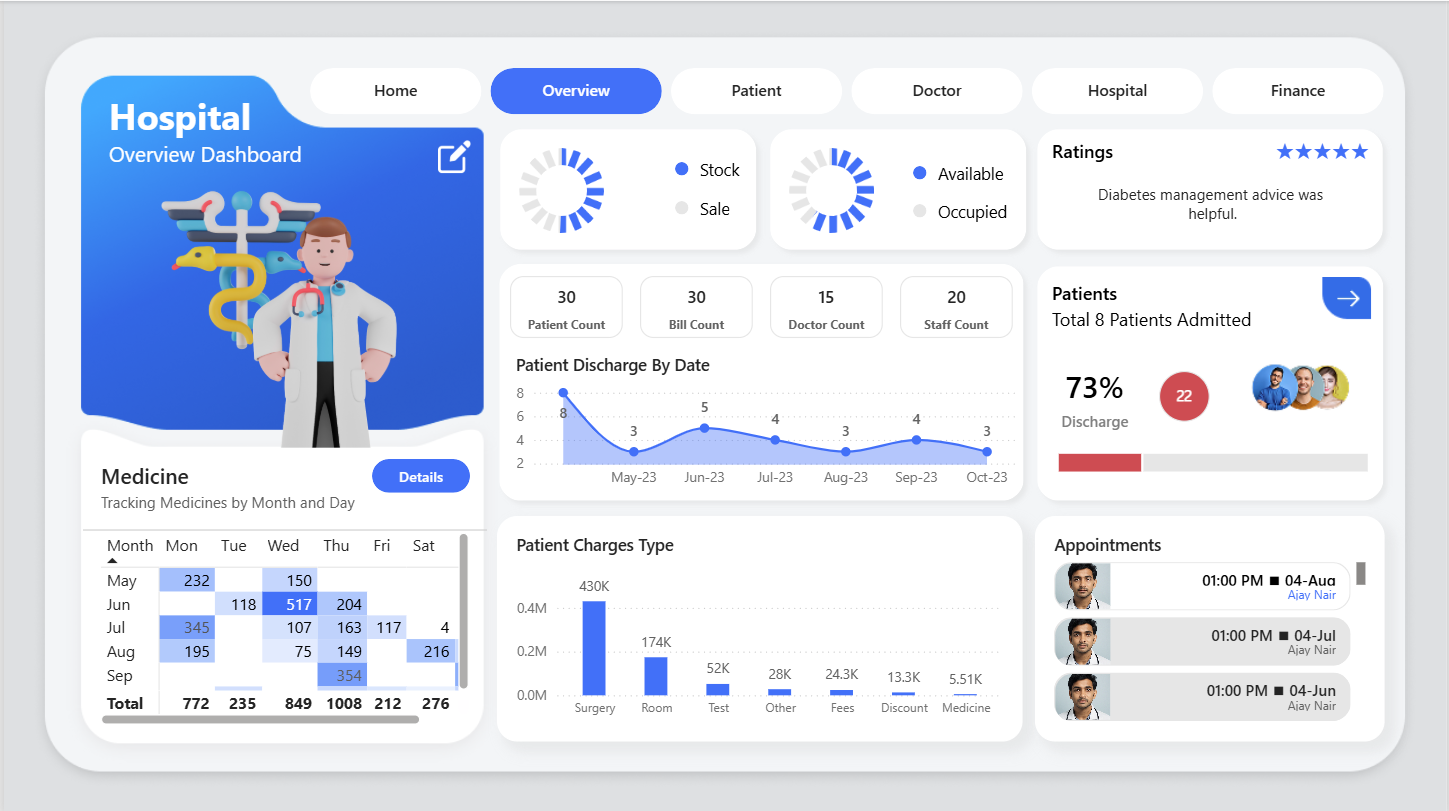

Layout of this report page (visuals, bound fields, positions):
{"tool":"powerbi","page":{"name":"Overview","canvas":[1280,720],"ordinal":1},"visuals":[{"type":"shape","box":[431,105,245,125],"z":0},{"type":"shape","box":[414,210,515,258],"z":0,"group":"g1"},{"type":"shape","box":[670,105,245,125],"z":1000},{"type":"shape","box":[907,226,325,226],"z":2000},{"type":"image","box":[124,148,246,250],"z":3000},{"type":"textbox","box":[92.7,79.6,207.6,75.6],"z":4000},{"type":"image","box":[384.8,120.6,29.3,34.6],"z":5000},{"type":"textbox","box":[601.7,0,101.8,99.8],"z":6000},{"type":"clusteredColumnChart","title":"Patient Charges Type","fields":{"Category":["Bills.Charge_Type"],"Y":["Sum(Bills.Value)"]},"box":[437,457,466,200],"z":7000},{"type":"pivotTable","title":"Medicine","fields":{"Values":["Sum(medicine_patient.qty)"],"Columns":["Calendar.Day"],"Rows":["Calendar.Month"]},"box":[70,395,358,262],"z":8000},{"type":"actionButton","box":[326,406,87,30],"z":9000},{"type":"pageNavigator","box":[271,59,953,41],"z":10000},{"type":"card","fields":{"Values":["Key Measures.patient_count"]},"box":[449,244,100,55],"z":10000,"group":"g1"},{"type":"card","fields":{"Values":["Count(patient_info.doctor_id)"]},"box":[679,244,100,55],"z":11000,"group":"g1"},{"type":"advancedSlicerVisual","title":"Appointments","fields":{"Values":["appointment.Appointment_Time_Date"]},"box":[914,457,310,200],"z":11000},{"type":"card","fields":{"Values":["Count(staff.staff_id)"]},"box":[794,244,100,55],"z":12000,"group":"g1"},{"type":"image","box":[1102,245,113,119],"z":12000},{"type":"group","id":"g1","title":"Group 1","box":[414,210,515,258],"z":13000},{"type":"card","fields":{"Values":["Count(Bills.bill_id)"]},"box":[564,244,100,55],"z":13000,"group":"g1"},{"type":"shape","box":[929,244,75,28],"z":14000},{"type":"areaChart","title":"Patient Discharge By Date","fields":{"Category":["patient_info.Format_DIsch_Date"],"Y":["Key Measures.patient_count"]},"box":[448,304,455,137],"z":14000,"group":"g1"},{"type":"shape","box":[929,267,199,28],"z":15000},{"type":"card","fields":{"Values":["Key Measures.Discharge_Patient"]},"box":[1024,328,45,45],"z":16000},{"type":"card","fields":{"Values":["Key Measures.Discharge%"]},"box":[921,313,92,75],"z":17000},{"type":"hundredPercentStackedBarChart","fields":{"Y":["Key Measures.patient_count"],"Series":["patient_info.patient_status"]},"box":[929,364,286,81],"z":18000},{"type":"donutChart","title":"Medicines Stock Status","fields":{"Y":["Key Measures.Total_Stock_Qty","Key Measures.Total_Med_Sale_Qty"]},"box":[431,117,127,102],"z":19000},{"type":"donutChart","title":"Medicines Stock Status","fields":{"Y":["Count(beds_info.beds)"],"Category":["beds_info.status"]},"box":[670,117,127,102],"z":20000},{"type":"shape","box":[617,135,53,28],"z":21000},{"type":"shape","box":[617,169,53,28],"z":22000},{"type":"shape","box":[595,143,12,12],"z":23000},{"type":"shape","box":[595,177,12,12],"z":24000},{"type":"shape","box":[828,138,66,28],"z":25000},{"type":"shape","box":[828,172,66,28],"z":26000},{"type":"shape","box":[806,146,12,12],"z":27000},{"type":"shape","box":[806,180,12,12],"z":28000},{"type":"image","box":[441.2,129.2,106.4,80],"z":29000},{"type":"image","box":[687.3,126.8,96.4,82.3],"z":30000},{"type":"shape","box":[907.1,104.8,324.5,125],"z":31000},{"type":"shape","box":[929.3,117.9,74.6,28.2],"z":32000},{"type":"card","fields":{"Values":["Key Measures.star rating"]},"box":[1112.7,118.9,111.9,31.2],"z":33000},{"type":"card","fields":{"Values":["Min(patient_info.satisfaction_feedback)"]},"box":[945.4,150.2,253,60.5],"z":34000}]}

Visuals, with their boxes in screenshot pixels (x1, y1, x2, y2), scaled from the page's 1280x720 canvas onto the 1449x811 screenshot:
shape: pyautogui.locateOnScreen(488, 118, 765, 259)
shape: pyautogui.locateOnScreen(469, 237, 1052, 527)
shape: pyautogui.locateOnScreen(758, 118, 1036, 259)
shape: pyautogui.locateOnScreen(1027, 255, 1395, 509)
image: pyautogui.locateOnScreen(140, 167, 419, 448)
textbox: pyautogui.locateOnScreen(105, 90, 340, 175)
image: pyautogui.locateOnScreen(436, 136, 469, 175)
textbox: pyautogui.locateOnScreen(681, 0, 796, 112)
"Patient Charges Type" clusteredColumnChart: pyautogui.locateOnScreen(495, 515, 1022, 740)
"Medicine" pivotTable: pyautogui.locateOnScreen(79, 445, 485, 740)
actionButton: pyautogui.locateOnScreen(369, 457, 468, 491)
pageNavigator: pyautogui.locateOnScreen(307, 66, 1386, 113)
card - Key Measures.patient_count: pyautogui.locateOnScreen(508, 275, 621, 337)
card - Count(patient_info.doctor_id): pyautogui.locateOnScreen(769, 275, 882, 337)
"Appointments" advancedSlicerVisual: pyautogui.locateOnScreen(1035, 515, 1386, 740)
card - Count(staff.staff_id): pyautogui.locateOnScreen(899, 275, 1012, 337)
image: pyautogui.locateOnScreen(1247, 276, 1375, 410)
"Group 1" group: pyautogui.locateOnScreen(469, 237, 1052, 527)
card - Count(Bills.bill_id): pyautogui.locateOnScreen(638, 275, 752, 337)
shape: pyautogui.locateOnScreen(1052, 275, 1137, 306)
"Patient Discharge By Date" areaChart: pyautogui.locateOnScreen(507, 342, 1022, 497)
shape: pyautogui.locateOnScreen(1052, 301, 1277, 332)
card - Key Measures.Discharge_Patient: pyautogui.locateOnScreen(1159, 369, 1210, 420)
card - Key Measures.Discharge%: pyautogui.locateOnScreen(1043, 353, 1147, 437)
hundredPercentStackedBarChart - Key Measures.patient_count x patient_info.patient_status: pyautogui.locateOnScreen(1052, 410, 1375, 501)
"Medicines Stock Status" donutChart: pyautogui.locateOnScreen(488, 132, 632, 247)
"Medicines Stock Status" donutChart: pyautogui.locateOnScreen(758, 132, 902, 247)
shape: pyautogui.locateOnScreen(698, 152, 758, 184)
shape: pyautogui.locateOnScreen(698, 190, 758, 222)
shape: pyautogui.locateOnScreen(674, 161, 687, 175)
shape: pyautogui.locateOnScreen(674, 199, 687, 213)
shape: pyautogui.locateOnScreen(937, 155, 1012, 187)
shape: pyautogui.locateOnScreen(937, 194, 1012, 225)
shape: pyautogui.locateOnScreen(912, 164, 926, 178)
shape: pyautogui.locateOnScreen(912, 203, 926, 216)
image: pyautogui.locateOnScreen(499, 146, 620, 236)
image: pyautogui.locateOnScreen(778, 143, 887, 236)
shape: pyautogui.locateOnScreen(1027, 118, 1394, 259)
shape: pyautogui.locateOnScreen(1052, 133, 1136, 165)
card - Key Measures.star rating: pyautogui.locateOnScreen(1260, 134, 1386, 169)
card - Min(patient_info.satisfaction_feedback): pyautogui.locateOnScreen(1070, 169, 1357, 237)
